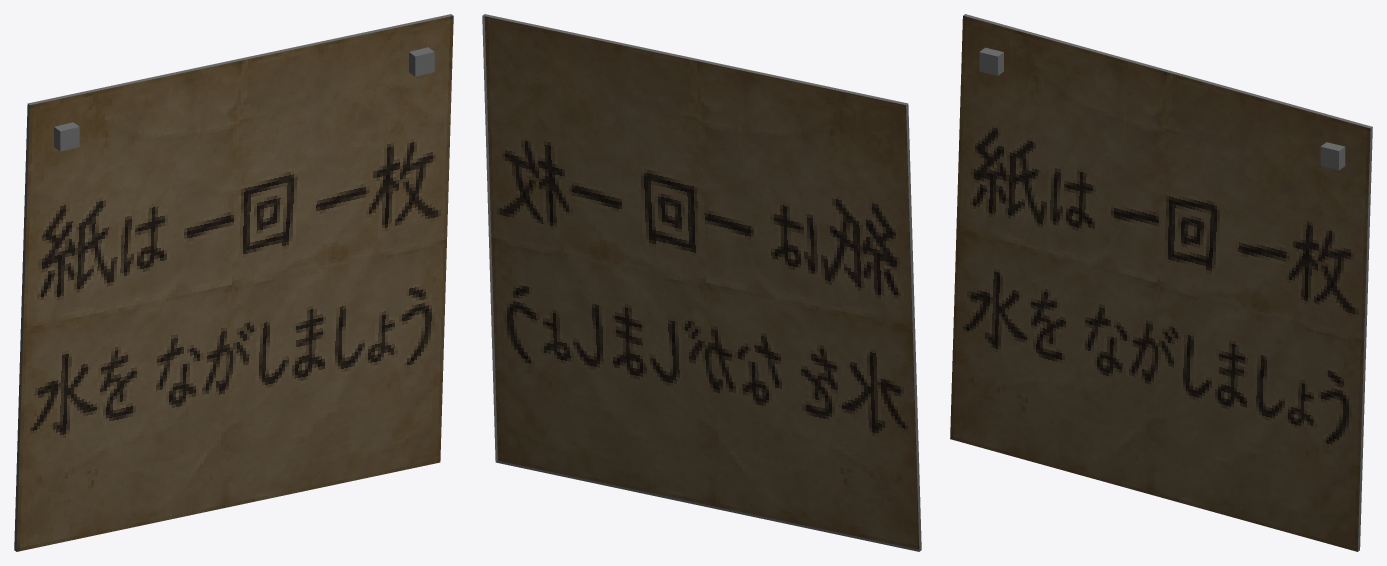
The model's file is prop_poster-toilet-0.glb.
3 renders of one model, left to right at view 1: azimuth 30°, elevation 25°; view 2: azimuth 150°, elevation 25°; view 3: azimuth 330°, elevation 25°, orthographic. The views are drawn at different scales.
Parts seen in each view (by area): view 1: prop_poster-toilet-0; view 2: prop_poster-toilet-0; view 3: prop_poster-toilet-0.
Part boxes in pixels (box(x1,y1,x2,y2)): prop_poster-toilet-0: box(14, 14, 453, 551); prop_poster-toilet-0: box(482, 14, 921, 551); prop_poster-toilet-0: box(950, 14, 1372, 551).
Size of the model in its own units: 0.3167 by 0.3167 by 0.0115.
Materials: 2 (2 with a texture image).
